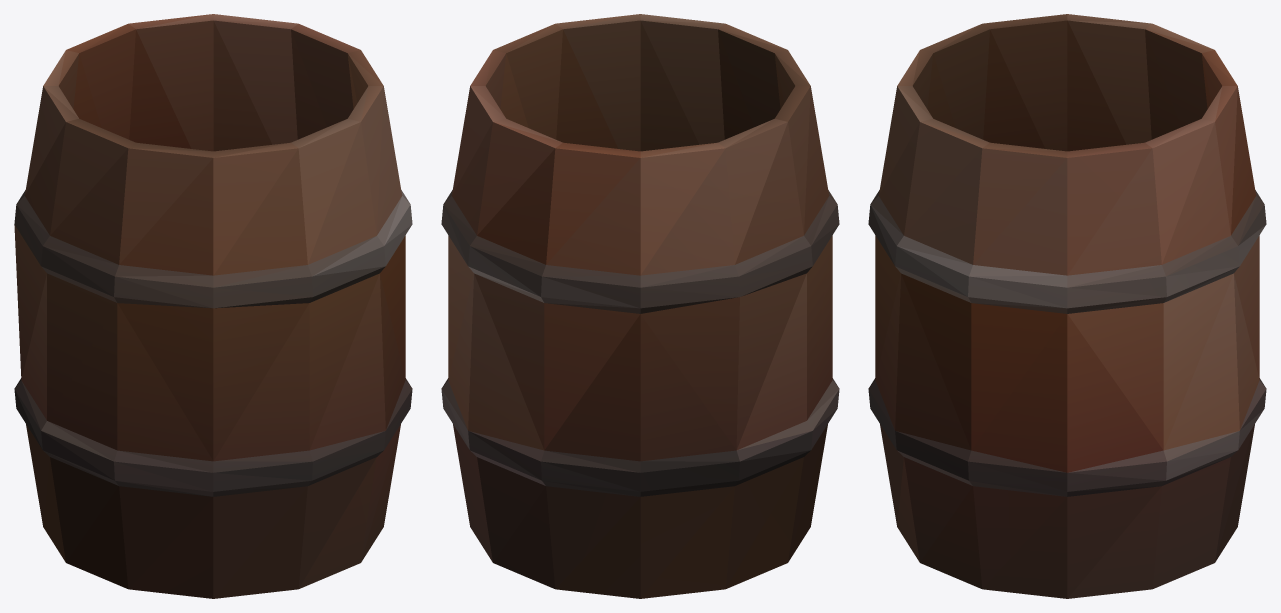
Rendered from Prop_BarrelC.fbx.
The picture shows the model from 3 angles, left to right: view 1: azimuth 30°, elevation 25°; view 2: azimuth 150°, elevation 25°; view 3: azimuth 270°, elevation 25°; orthographic projection.
Visible parts, largest first — view 1: Prop_BarrelC; view 2: Prop_BarrelC; view 3: Prop_BarrelC.
Part boxes in pixels (box(x1,y1,x2,y2)): Prop_BarrelC: box(14, 14, 412, 598); Prop_BarrelC: box(441, 14, 839, 598); Prop_BarrelC: box(868, 14, 1266, 598).
Bounding box in the file's own units: 102 × 125 × 102.
